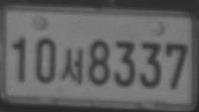0: (34, 37, 57, 83)
1: (9, 37, 32, 81)
3: (139, 41, 162, 88), (113, 40, 135, 87)
7: (165, 42, 188, 89)
8: (87, 39, 110, 86)
서: (60, 47, 83, 85)
